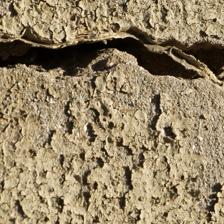Crack: (4, 23, 222, 90)
